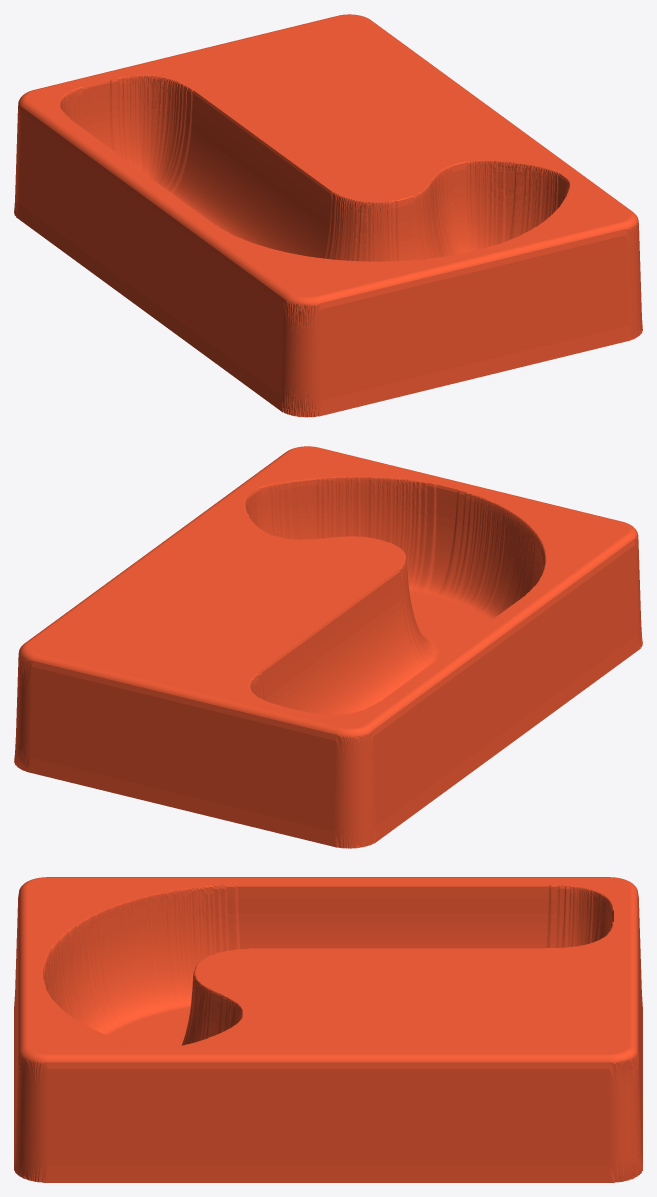
File: mold.glb
The picture shows the model from 3 angles, top to bottom: view 1: azimuth 30°, elevation 25°; view 2: azimuth 150°, elevation 25°; view 3: azimuth 270°, elevation 25°; orthographic projection. The views are drawn at different scales.
Parts seen in each view (by area): view 1: geometry_0; view 2: geometry_0; view 3: geometry_0.
Part boxes in pixels (box(x1,y1,x2,y2)): geometry_0: box(14, 14, 642, 417); geometry_0: box(14, 446, 642, 848); geometry_0: box(14, 877, 642, 1182).
Size of the model in its own units: 0.1191 by 0.0365 by 0.1689.
